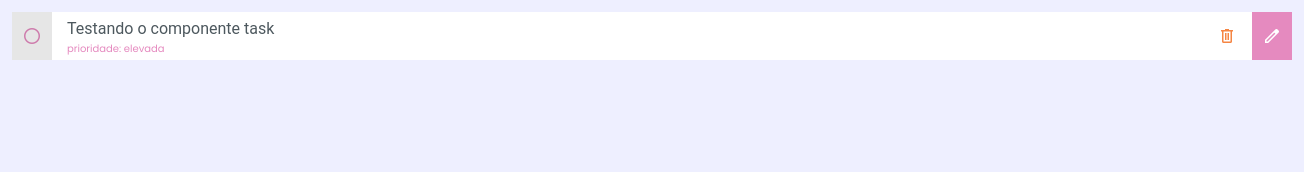
Edit Button
Check: the field showing "Testando o componente task" is disabled, box [67, 18, 1202, 38]
Click the 3rd button "edit".
click(1272, 36)  # box [1252, 12, 1292, 60]
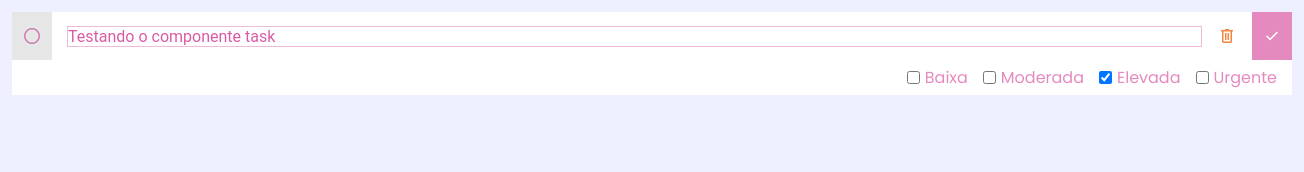
Check: the field showing "Testando o componente task" is enabled, box [67, 26, 1202, 46]
Check: the checkbox showing "0" is shown, box [907, 71, 920, 84]
Check: the checkbox showing "1" is shown, box [983, 71, 996, 84]
